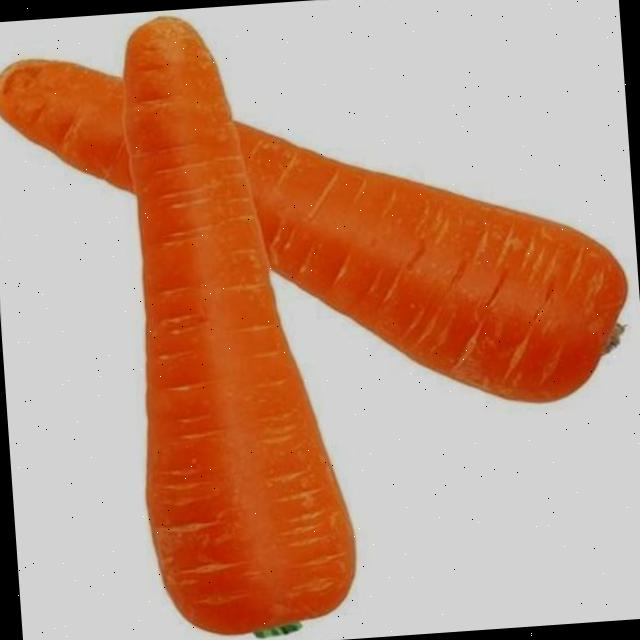carrot: (0, 61, 626, 402), (123, 18, 354, 634)
